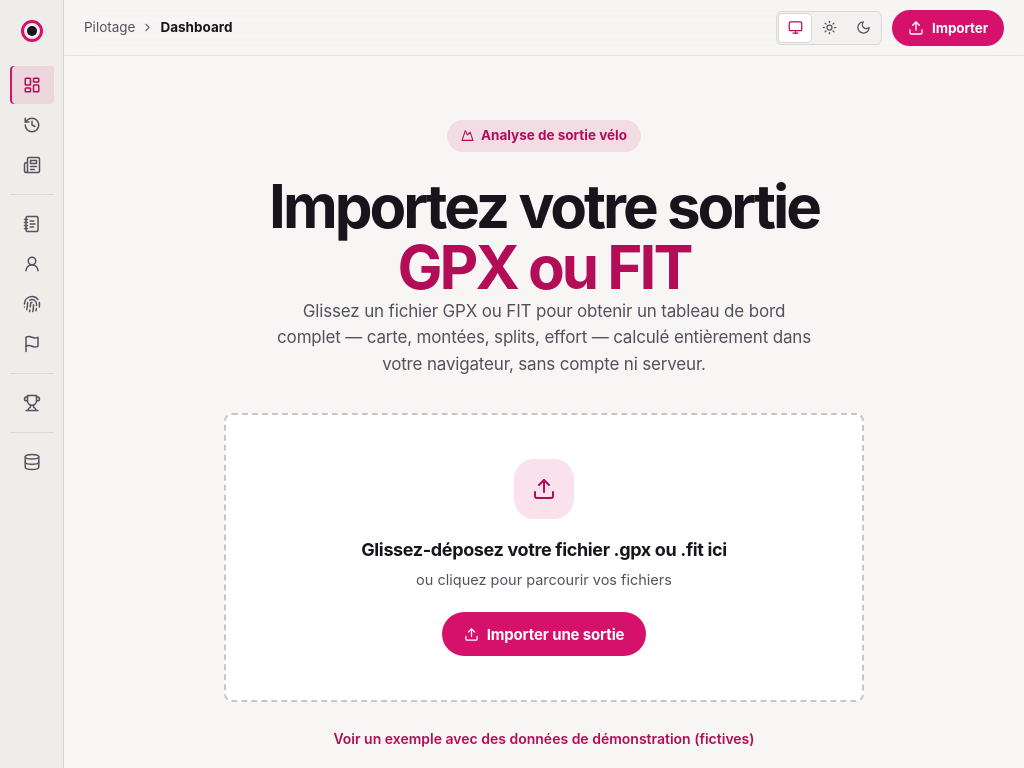
Test: Navigation principale — 6 destinations toujours accessibles › navigue directement vers Archétype depuis la navigation principale
Expected: the text "Glissez-déposez votre fichier .gpx ou .fit ici" is shown, [361,539,727,560]
Click the button "Archétype" at (32, 304), box [10,285,54,323]
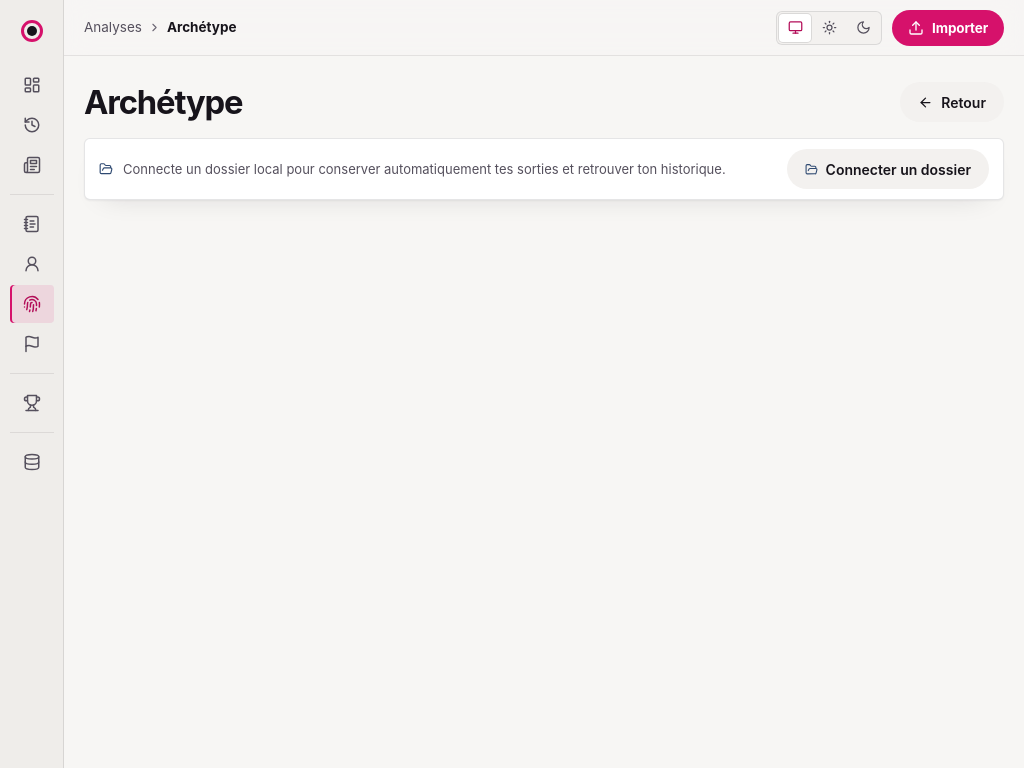
Expected: the heading "Archétype" is shown, [84,82,242,122]
